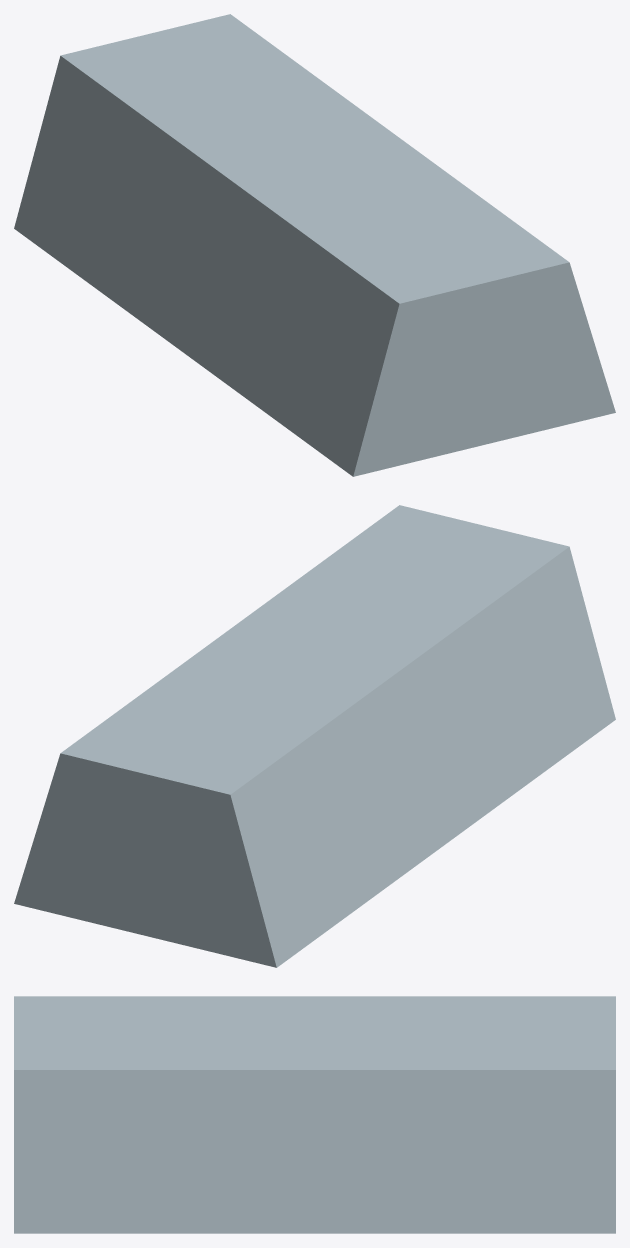
Rendered from iron-ingot.fbx.
3 renders of one model, top to bottom at view 1: azimuth 30°, elevation 25°; view 2: azimuth 150°, elevation 25°; view 3: azimuth 270°, elevation 25°, orthographic. The views are drawn at different scales.
Visible parts, largest first — view 1: group563441696; view 2: group563441696; view 3: group563441696.
Boxes of the visible parts, x1,y1,x2,y2 form: group563441696: (14,14,615,476); group563441696: (14,505,615,967); group563441696: (14,996,615,1233).
Bounding box in the file's own units: 17 × 10 × 38.
